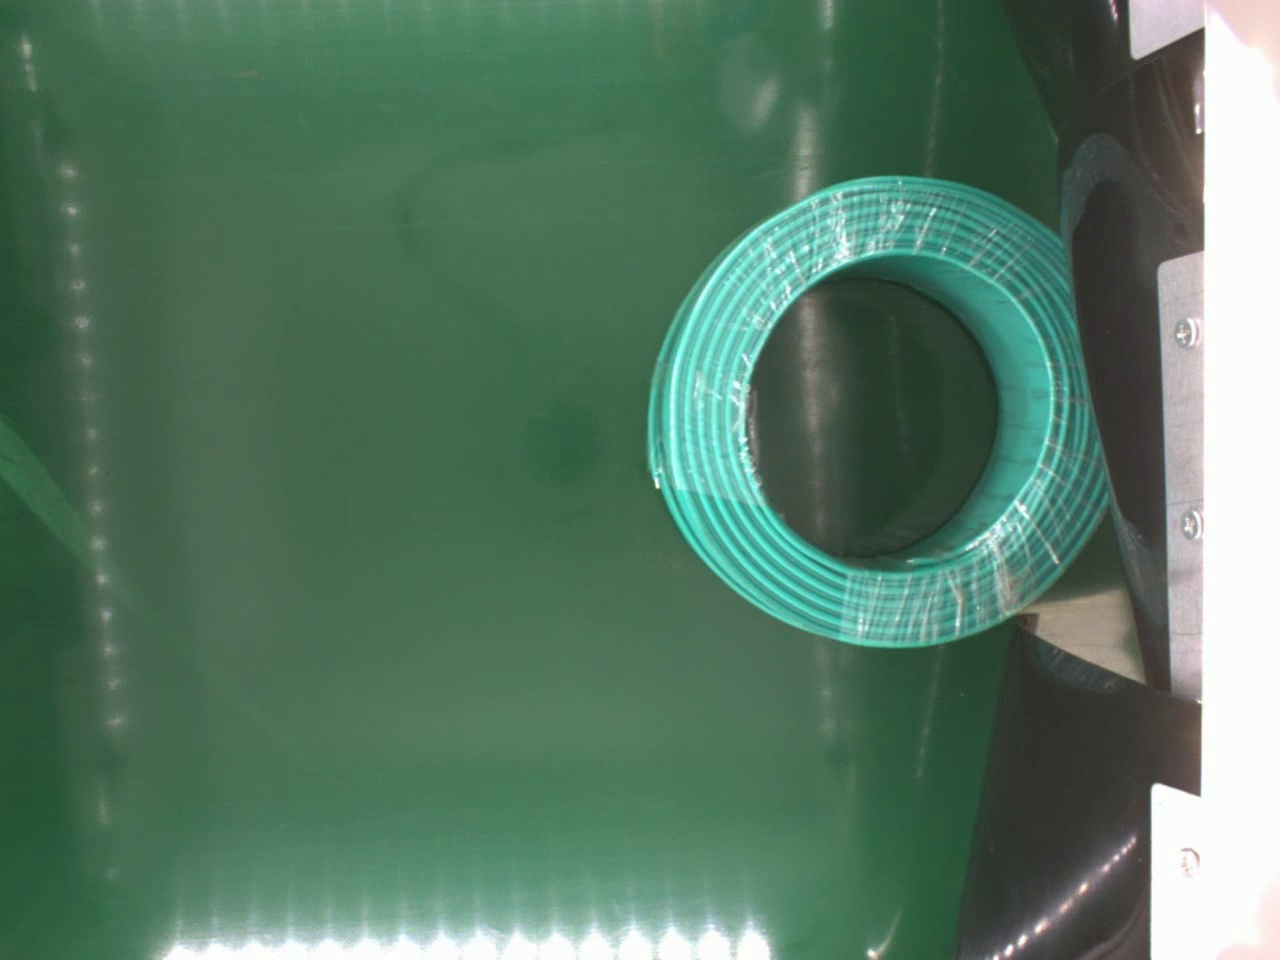green: (643, 173, 1110, 646)
